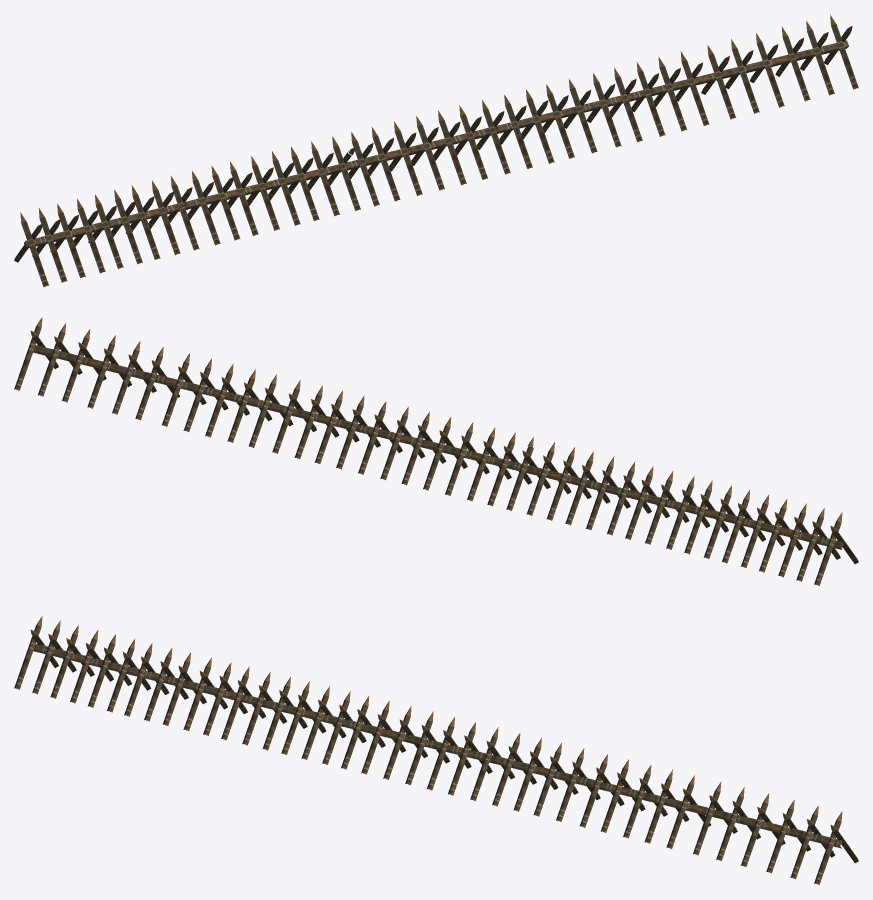
The model's file is barricade_07.glb.
The picture shows the model from 3 angles, top to bottom: view 1: azimuth 30°, elevation 25°; view 2: azimuth 150°, elevation 25°; view 3: azimuth 330°, elevation 25°; orthographic projection.
Visible parts, largest first — view 1: res\artifact\guild\barricade\barricade_07.bsr; view 2: res\artifact\guild\barricade\barricade_07.bsr; view 3: res\artifact\guild\barricade\barricade_07.bsr.
Part boxes in pixels (x1,y1,x2,y2): res\artifact\guild\barricade\barricade_07.bsr: (14,14,858,287); res\artifact\guild\barricade\barricade_07.bsr: (14,317,858,585); res\artifact\guild\barricade\barricade_07.bsr: (14,616,858,884).
Bounding box in the file's own units: 235 × 15.73 × 18.44.
2 materials, 2 textured.
